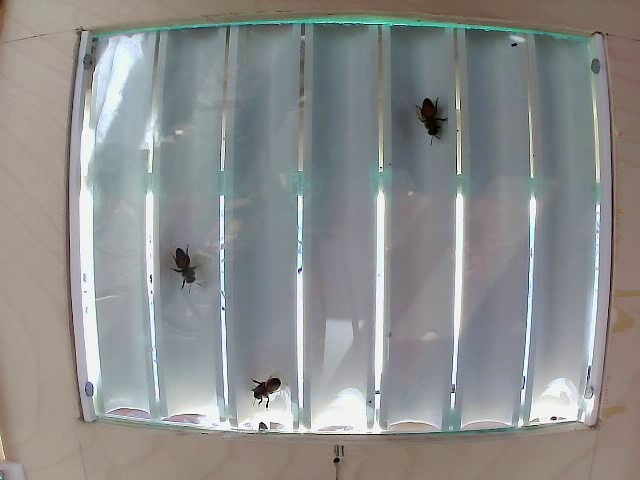bee: (416, 99, 449, 147), (170, 246, 202, 290), (253, 369, 292, 400)
